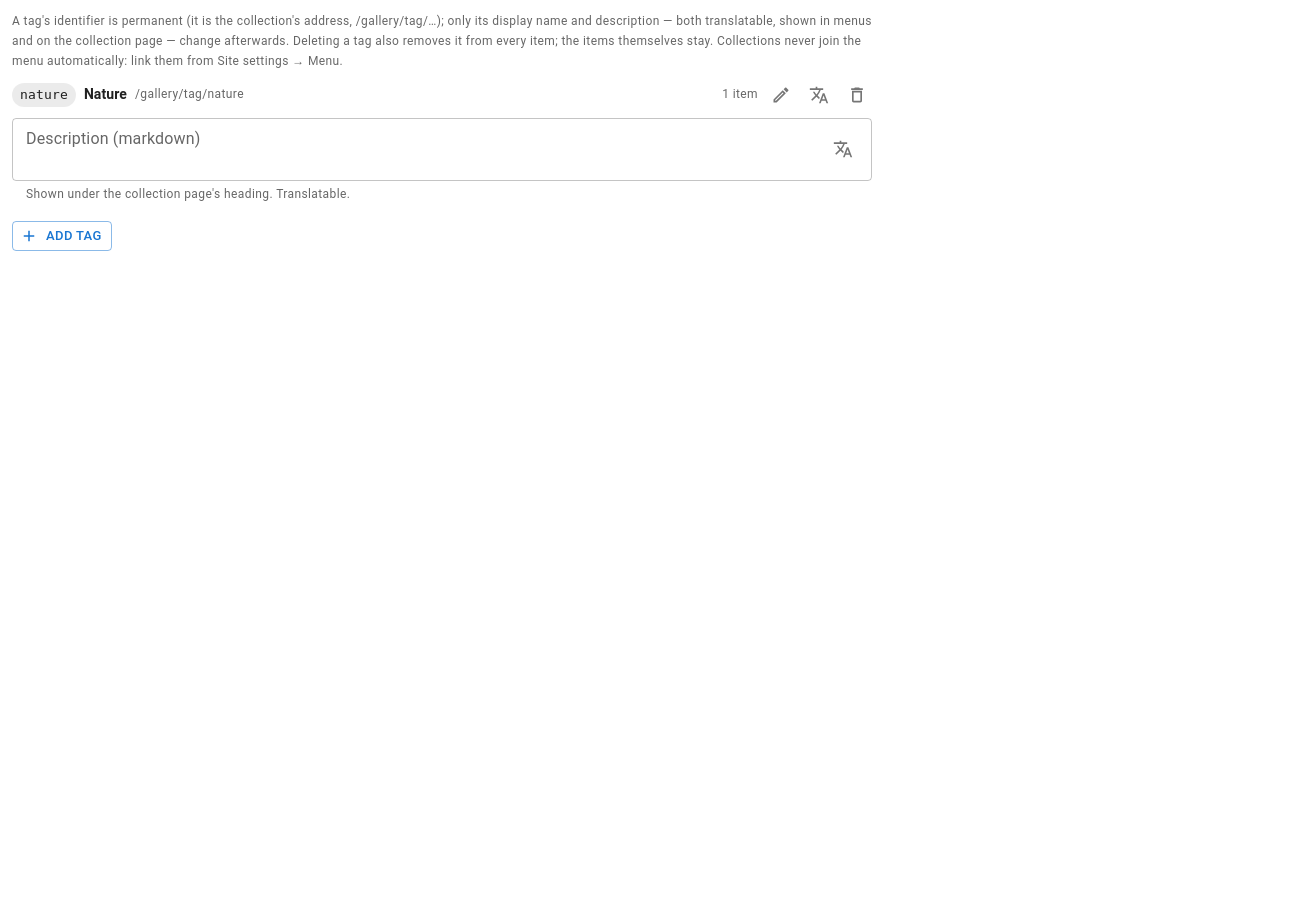
Test case: GalleryTagsEditor (Tags tab) › deletes a tag — the cascade unTags the FRESH draft items at save time
What coordinates should you click on to do the following:
click the button named "delete tag"
I would click on:
 (857, 95)
Its box is [842,80,872,110].
Wait 850 ms
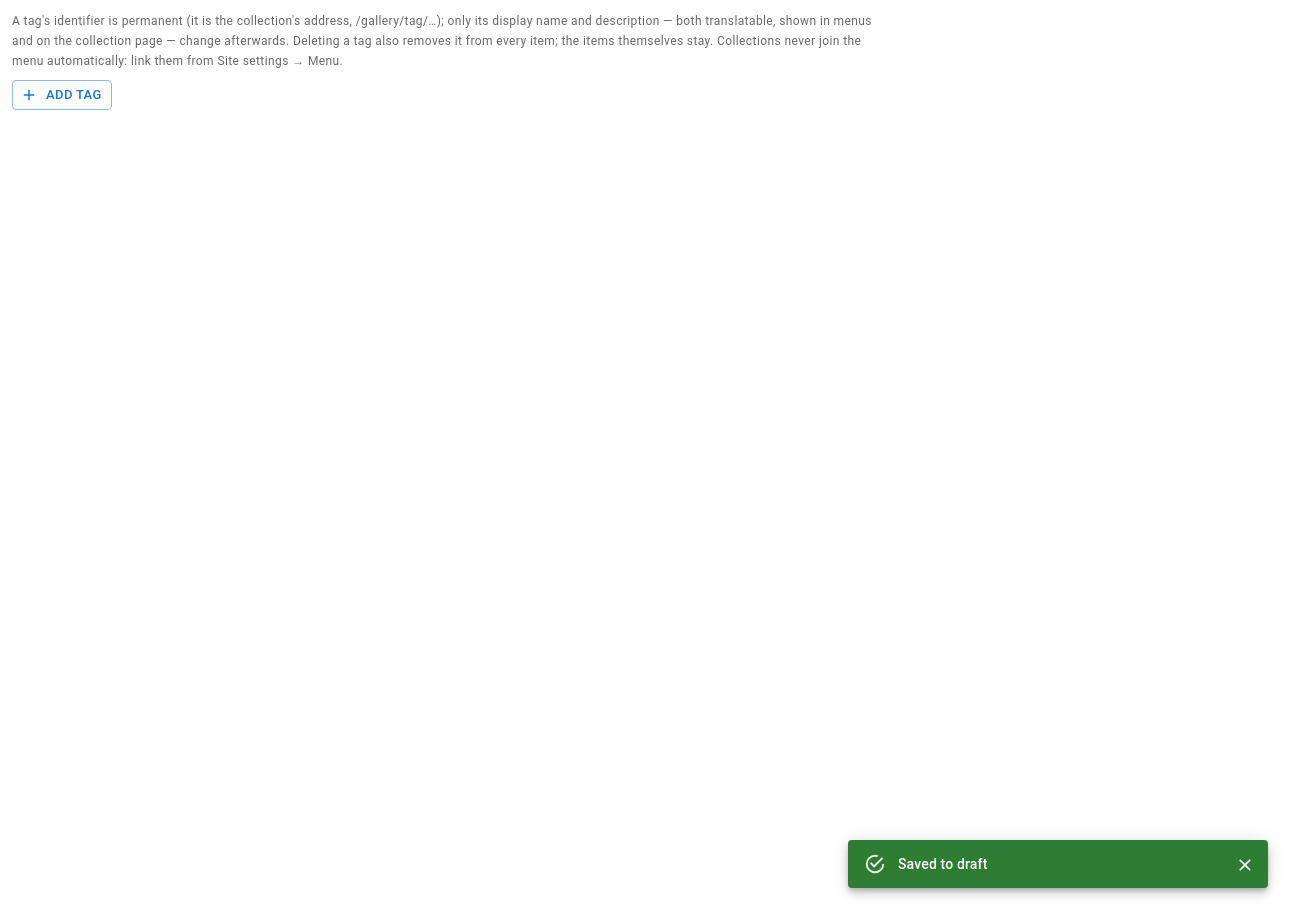
Check: the text "/gallery/tag/nature" is gone
